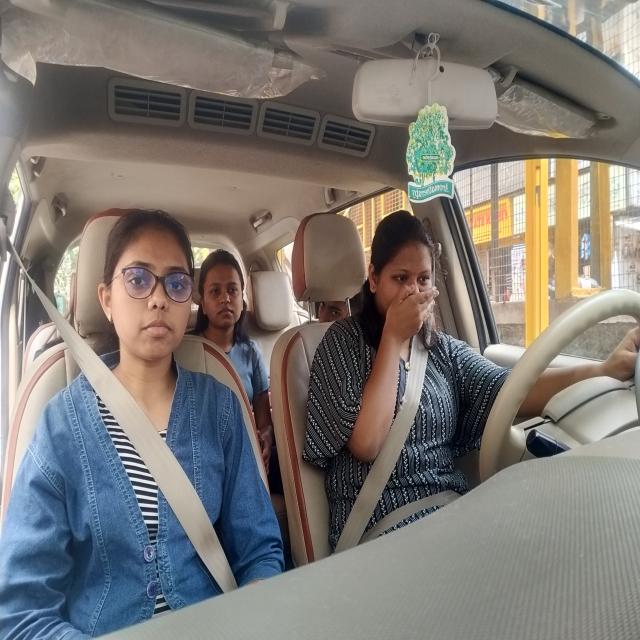drowsy: (366, 220, 448, 335)
person: (97, 212, 205, 384), (202, 255, 251, 326)
